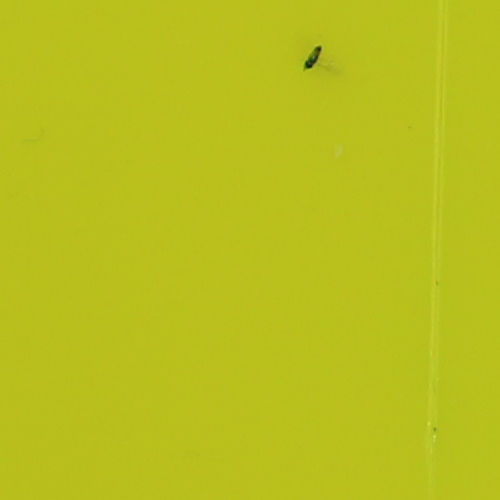Psyllaephagus: (304, 45, 322, 70)
